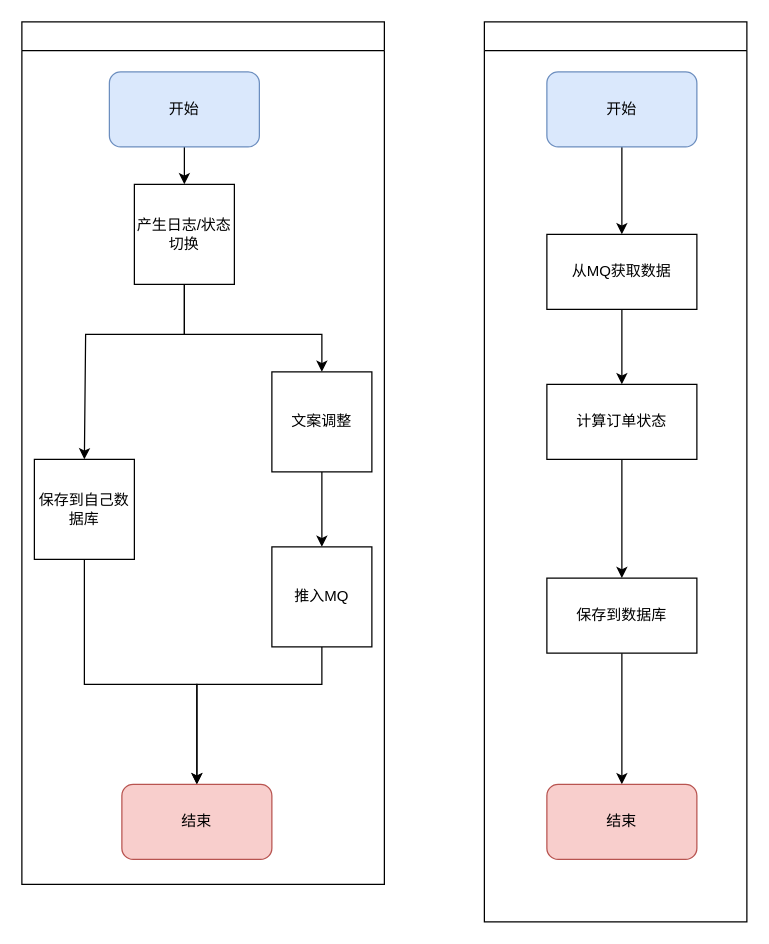
Image size: 769x944. Some labels were removed from this diagram. The shapes that lost their labels are listed below. From the top down, each one's box as (x1, y1, x2, y2) in pixels, then its label:
(21, 21, 384, 884): ERP
(483, 21, 747, 922): OMS
